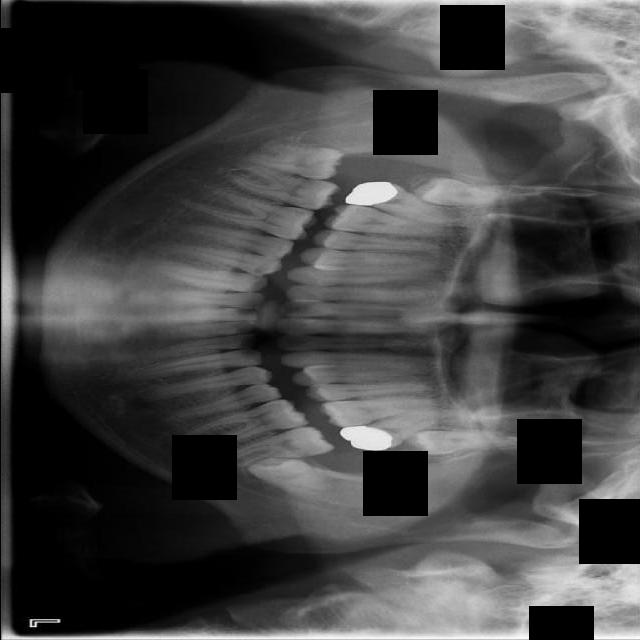3M ESPE Implant: (411, 174, 545, 215)
52: (335, 419, 403, 458), (342, 180, 404, 207)
73: (66, 590, 76, 594)
BioHorizons Implant: (338, 403, 454, 461)
BioLife Implant: (409, 429, 523, 460)
Biomet 3i Implant: (245, 441, 332, 507)
Blue Sky Bio Implant: (221, 423, 334, 471)
Caries: (344, 173, 471, 234)
Implant: (219, 158, 342, 216)
Keystone Dental Implant: (244, 139, 343, 183)
